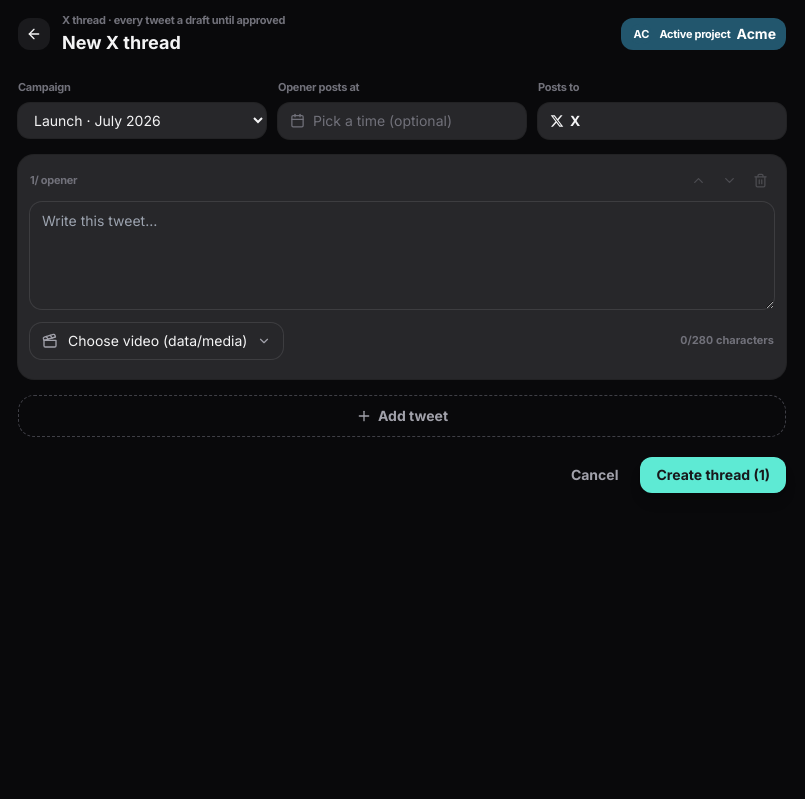
ThreadComposer validation › blocks save when a reply gap is below 1 minute (would stall the chain)
Type "opener" into the text box. click: (402, 255)
box: [30,202,774,308]
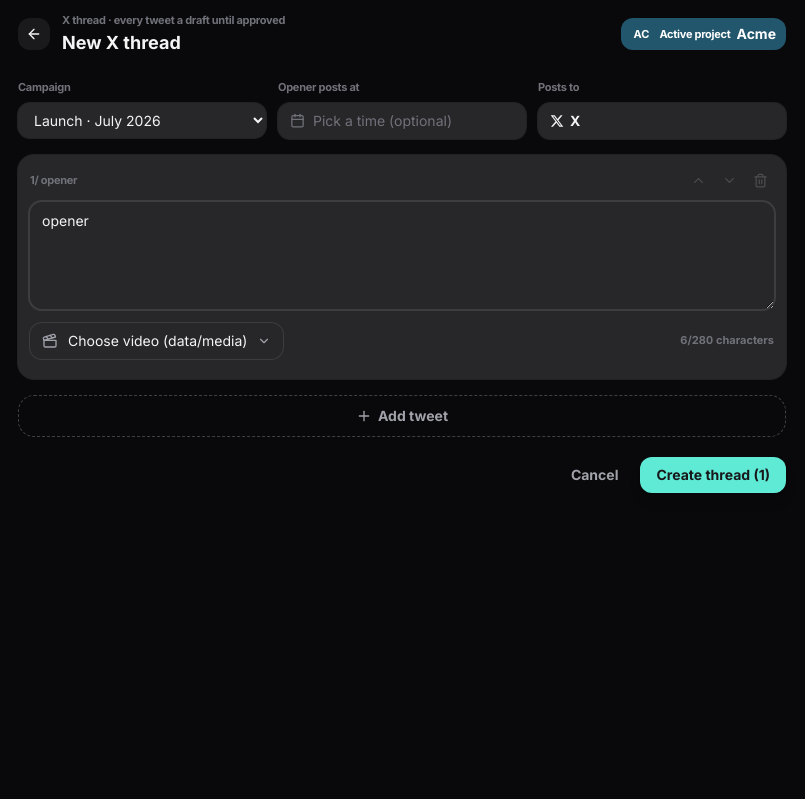
Click the button "Add tweet". click: (402, 416)
box: [18,394,786,436]
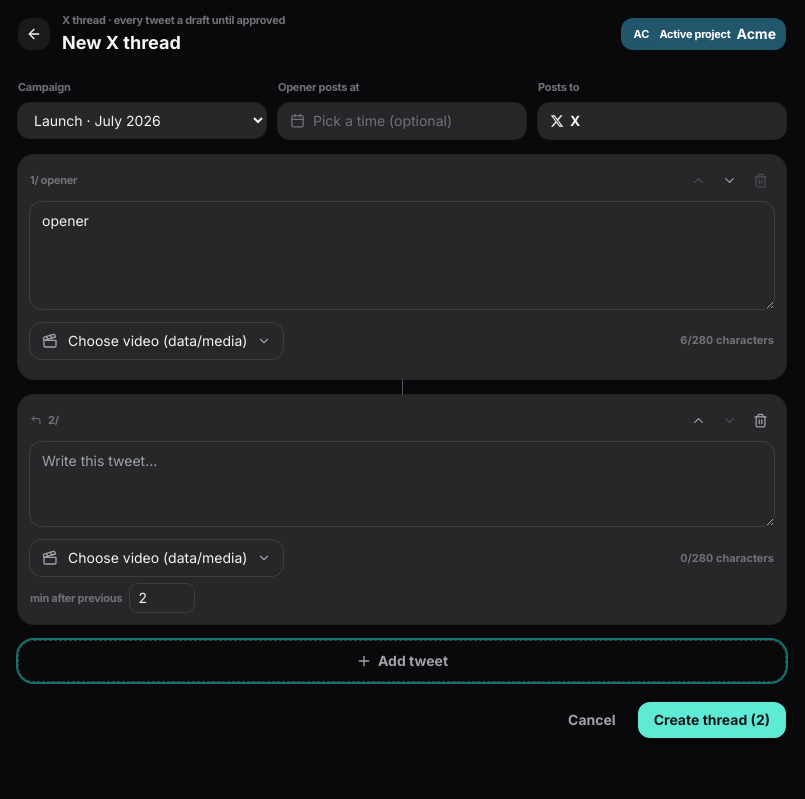
Type "reply" into the text box with placeholder "Write this tweet…". click: (402, 484)
box: [30,442,774,526]
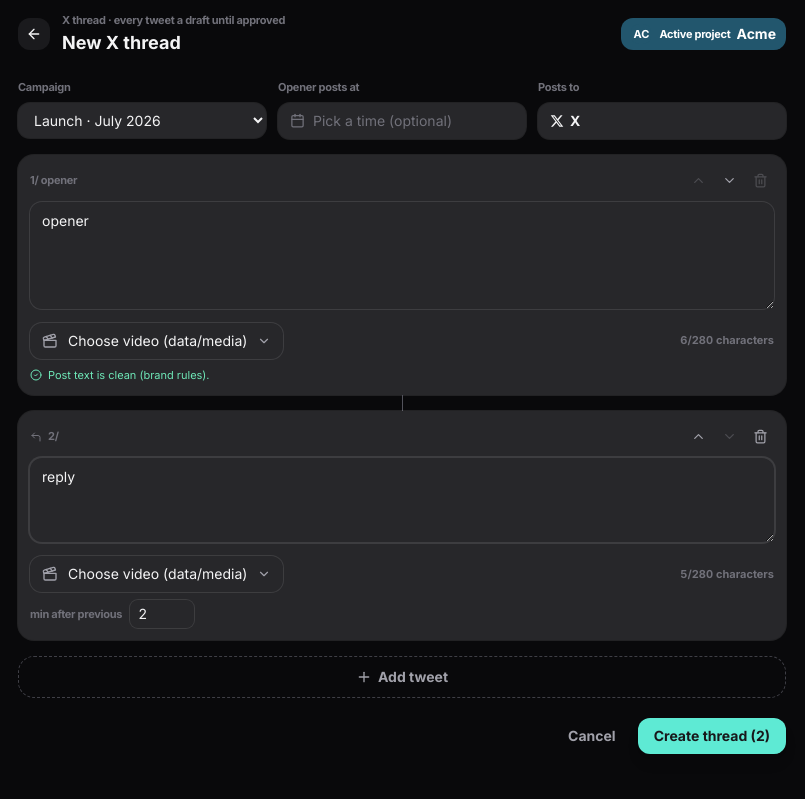
Replace the text in the number field with "0". click: (162, 614)
box: [130,600,194,628]
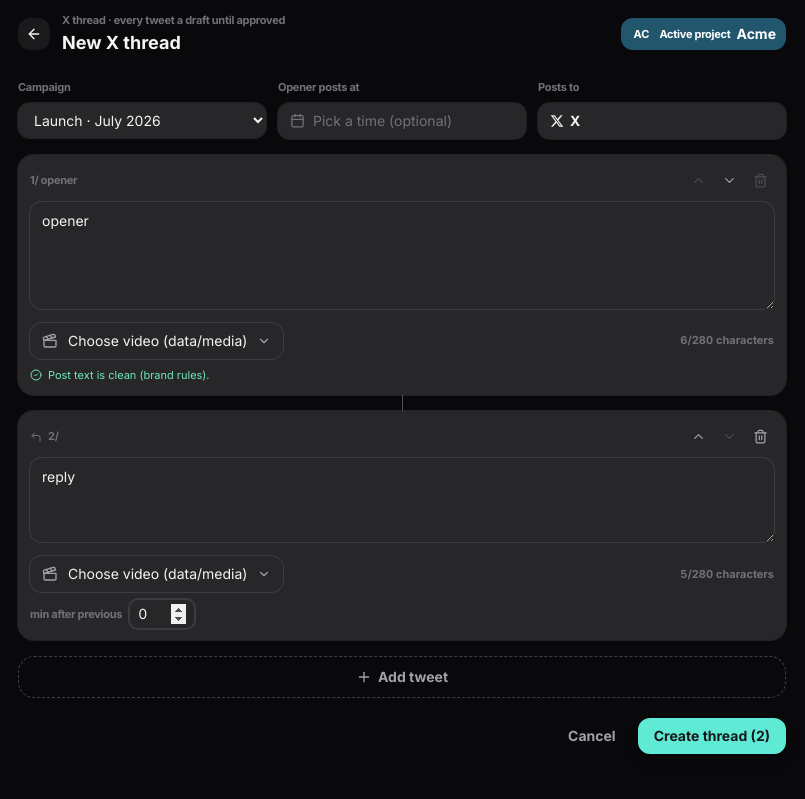
Click the button "Create thread (2)". click: (712, 736)
box: [638,718,786,754]
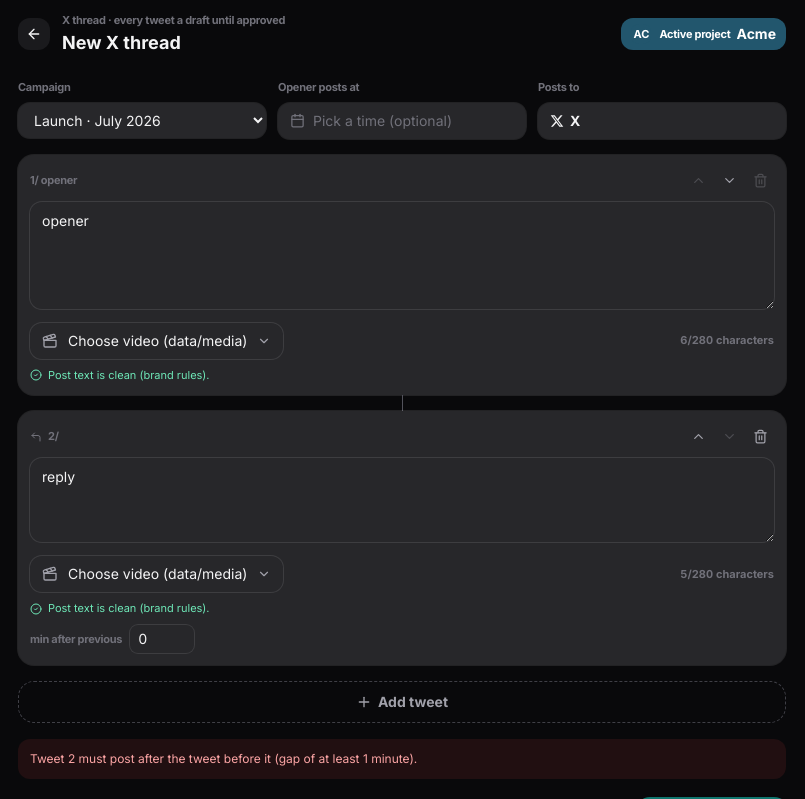
Expected: the message "Tweet 2 must post after the tweet before it (gap of at least 1 minute)." is shown, [18,739,786,779]
